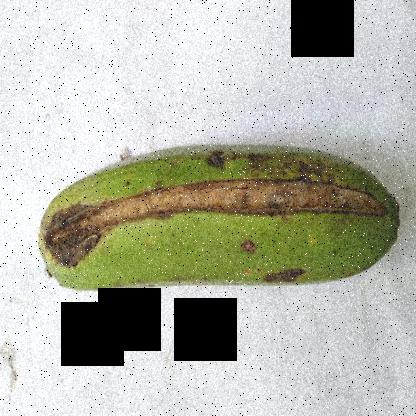rotten: (22, 120, 406, 326)
